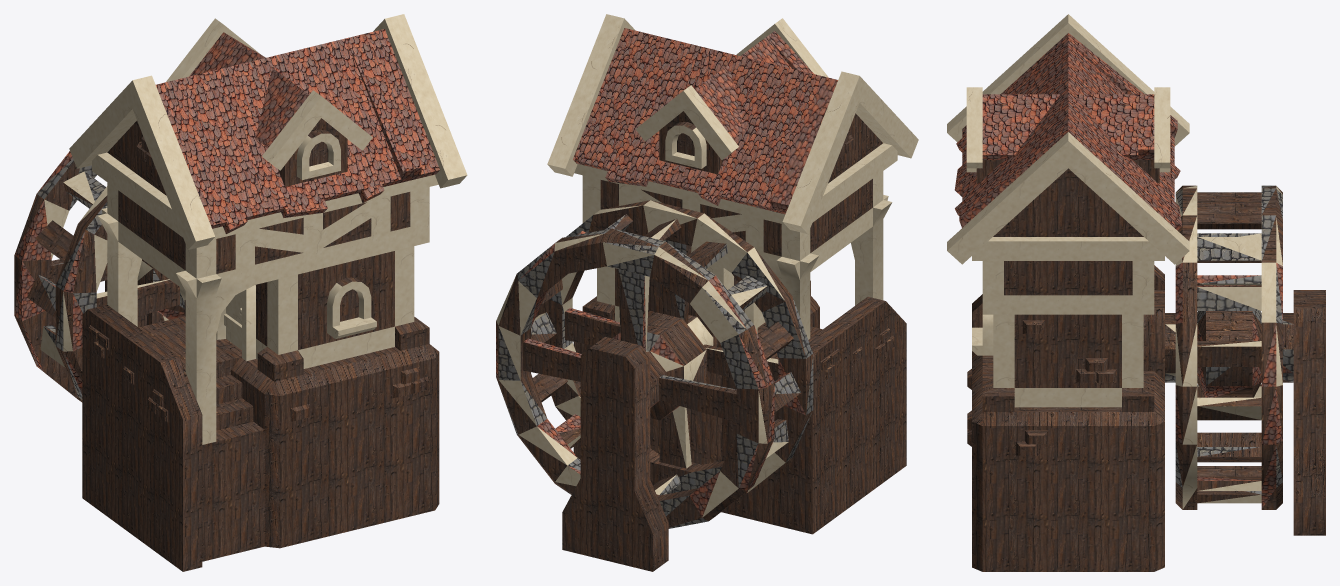
The model's file is prop_watermill.glb.
3 views of the same model, side by side, from view 1: azimuth 30°, elevation 25°; view 2: azimuth 150°, elevation 25°; view 3: azimuth 270°, elevation 25° (orthographic). The views are drawn at different scales.
Visible parts, largest first — view 1: building_watermill_blue, building_watermill_wheel_blue; view 2: building_watermill_blue, building_watermill_wheel_blue; view 3: building_watermill_blue, building_watermill_wheel_blue.
Part boxes in pixels (x1=…): building_watermill_blue: x1=69, y1=14, x2=467, y2=571; building_watermill_wheel_blue: x1=14, y1=151, x2=185, y2=402; building_watermill_blue: x1=547, y1=14, x2=918, y2=571; building_watermill_wheel_blue: x1=496, y1=200, x2=813, y2=528; building_watermill_blue: x1=947, y1=14, x2=1325, y2=571; building_watermill_wheel_blue: x1=1165, y1=185, x2=1293, y2=509.
Size of the model in its own units: 6.83 by 10.19 by 8.03.
Materials: 4 (4 with a texture image).
